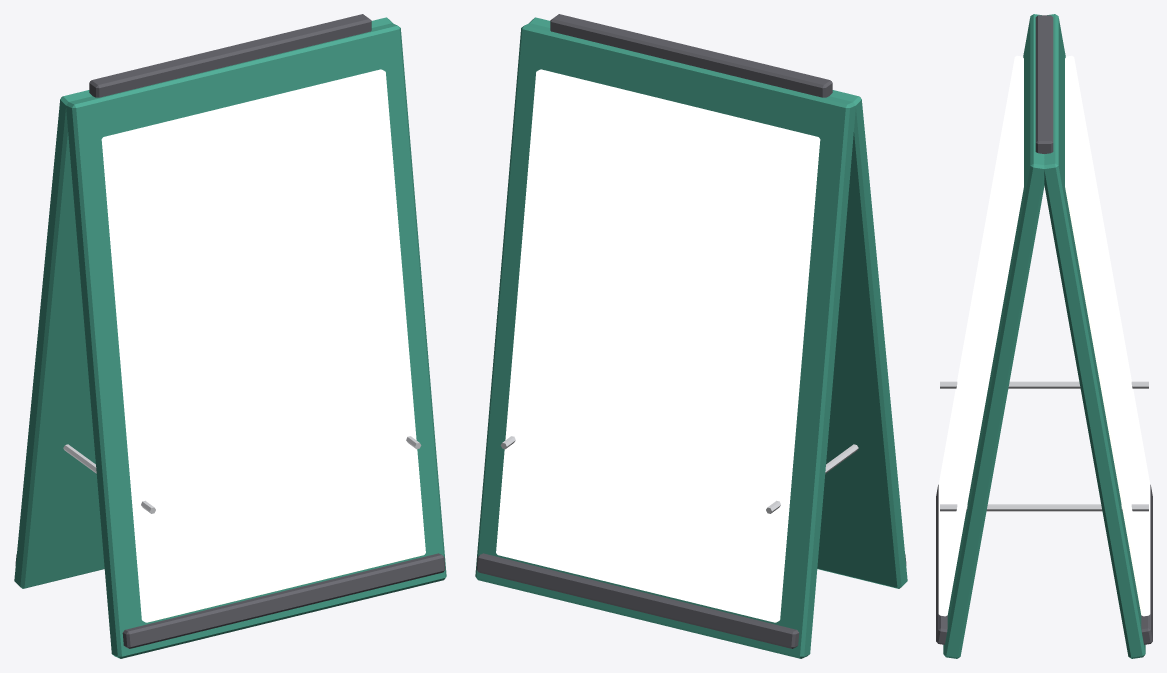
Rendered from petrol-station-and-forecourt-shop-sandwich-board-219c2a5f__33989.glb.
The picture shows the model from 3 angles, left to right: view 1: azimuth 30°, elevation 25°; view 2: azimuth 150°, elevation 25°; view 3: azimuth 270°, elevation 25°; orthographic projection. The views are drawn at different scales.
Visible parts, largest first — view 1: sandwich-board; view 2: sandwich-board; view 3: sandwich-board.
Boxes of the visible parts, left/top/right/bottom form: sandwich-board: left=14, top=14, right=446, bottom=658; sandwich-board: left=475, top=14, right=907, bottom=658; sandwich-board: left=936, top=14, right=1152, bottom=658.
Size of the model in its own units: 0.6201 by 0.9616 by 0.3731.
